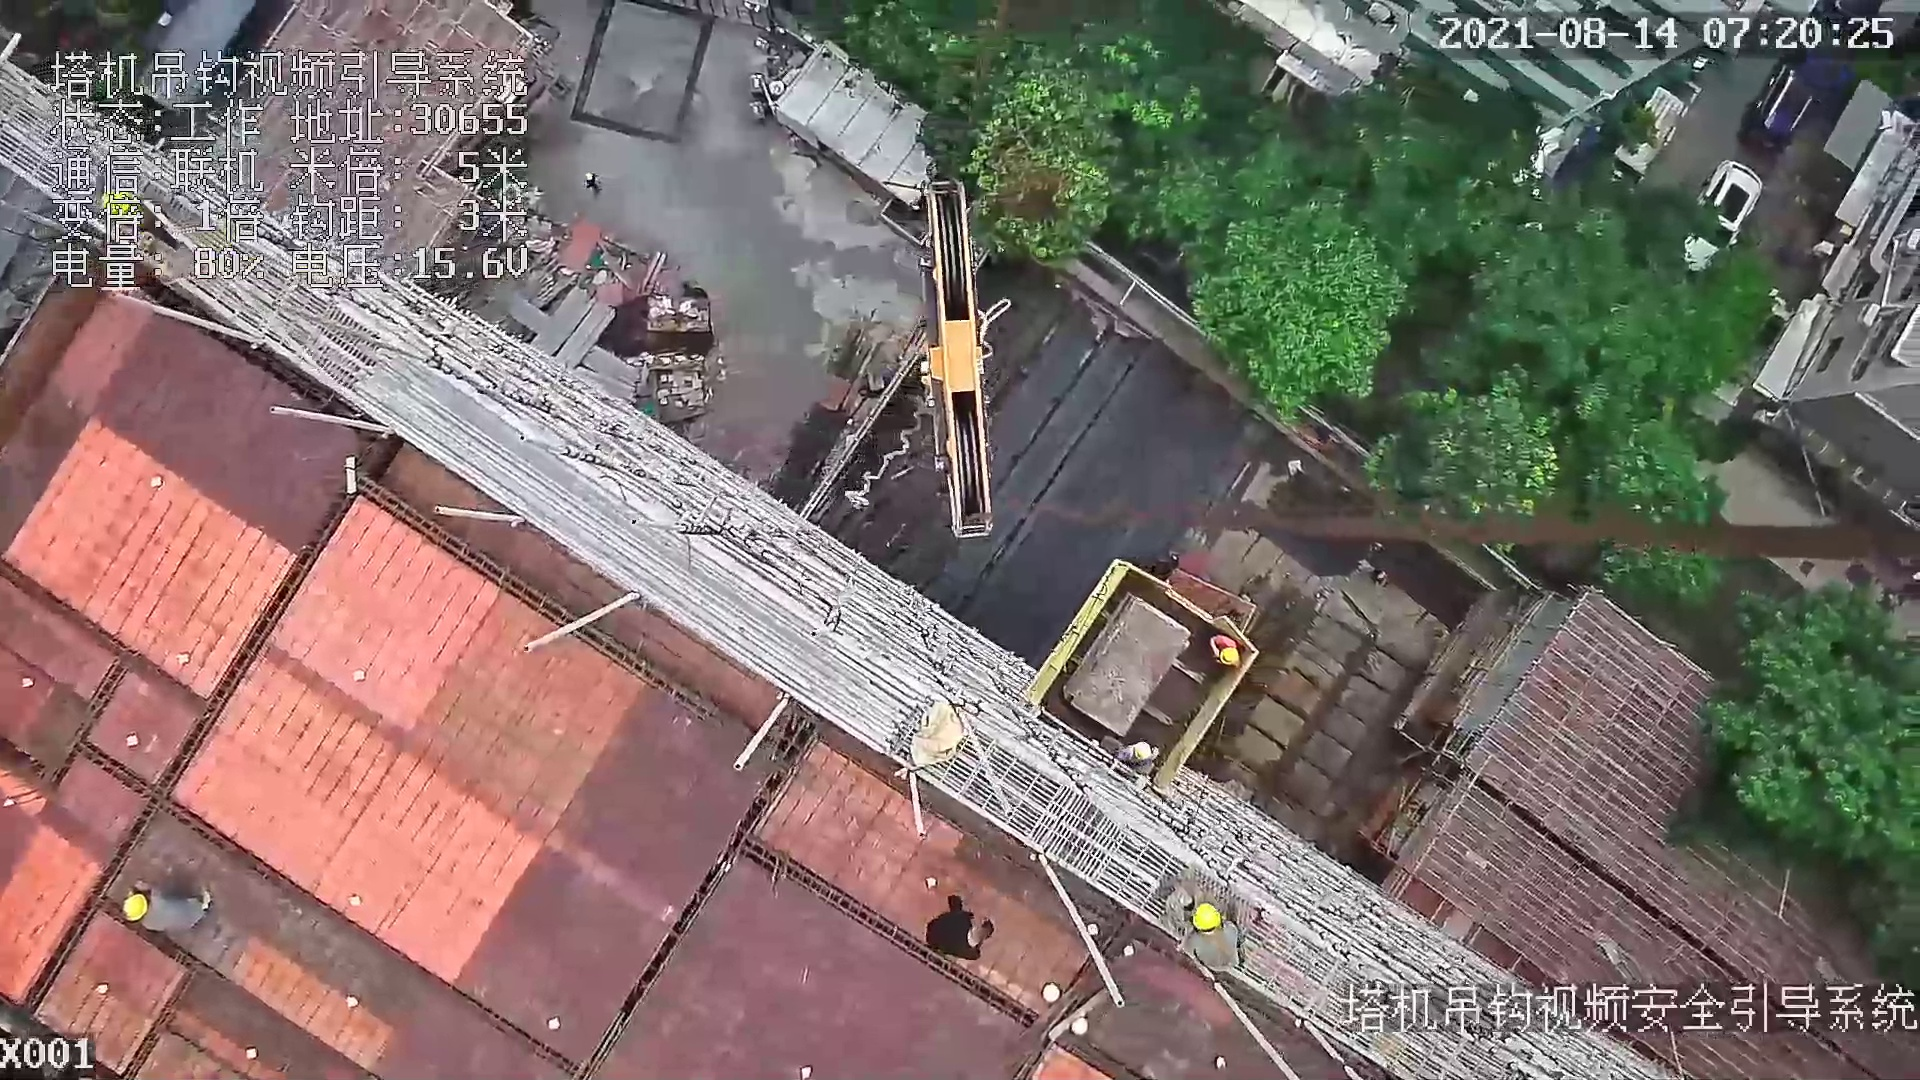helmet: (1188, 902, 1226, 933), (123, 888, 151, 927), (1220, 644, 1240, 665)
hook: (872, 164, 1014, 545)
person: (122, 873, 228, 939), (1174, 903, 1251, 980), (1205, 628, 1242, 677)
